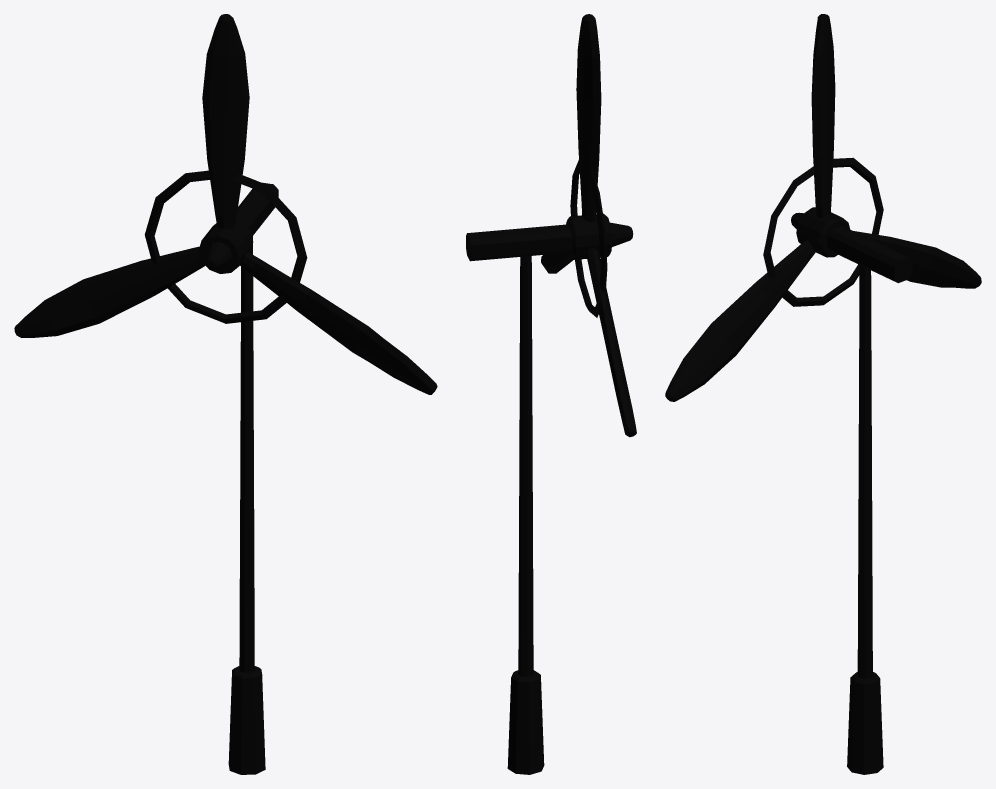
Rendered from power.fbx.
3 renders of one model, left to right at view 1: azimuth 30°, elevation 25°; view 2: azimuth 150°, elevation 25°; view 3: azimuth 270°, elevation 25°, orthographic. The views are drawn at different scales.
Parts seen in each view (by area): view 1: pow_gen02_elesi.001, pow_gen02.001; view 2: pow_gen02.001, pow_gen02_elesi.001; view 3: pow_gen02_elesi.001, pow_gen02.001.
Part boxes in pixels (x1,y1,x2,y2): pow_gen02_elesi.001: [14, 14, 437, 394]; pow_gen02.001: [228, 182, 278, 774]; pow_gen02.001: [466, 224, 571, 774]; pow_gen02_elesi.001: [541, 14, 636, 437]; pow_gen02_elesi.001: [665, 14, 981, 401]; pow_gen02.001: [827, 225, 912, 774].
Bounding box in the file's own units: 650 × 1863 × 730.
Materials: 1 (1 with a texture image).
